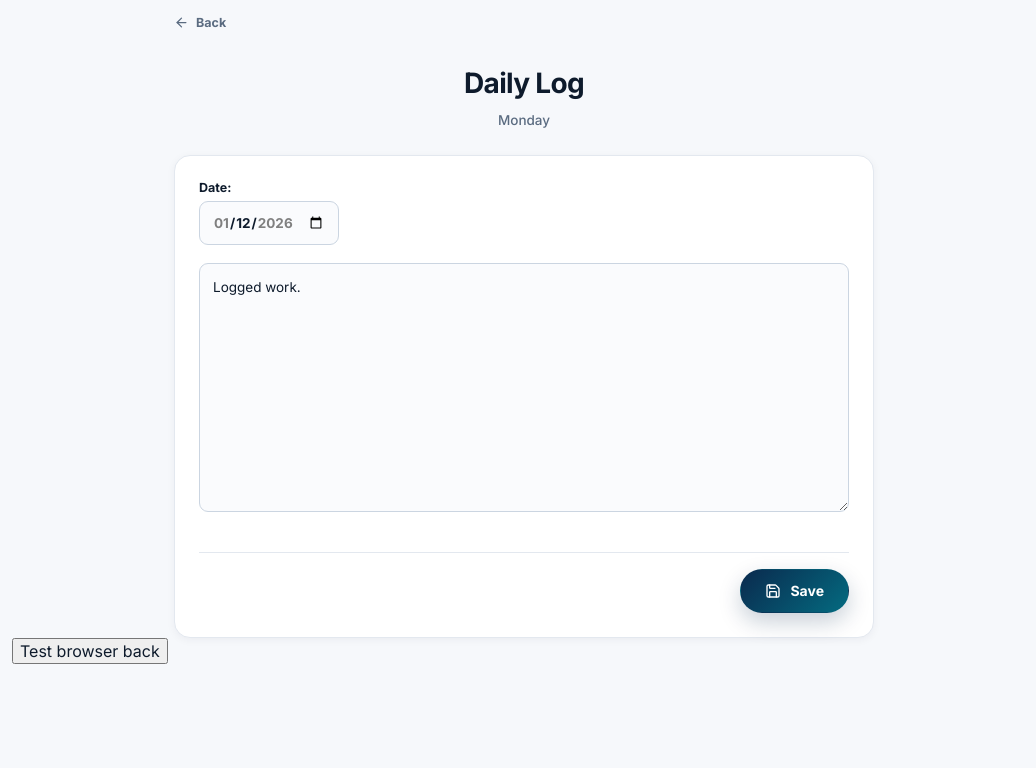
Test: DayPage › commits a valid typed date on Enter and navigates (req: Enter commits valid)
Check: the text box named "Daily log for 2026-01-12" is shown, box [199, 263, 849, 512]
Press 1 in the date field labelled "Date", box [199, 201, 338, 245]
Type "2026-01-13" into the date field labelled "Date".
click(269, 223); type("2026-01-13")  # box [199, 201, 338, 245]
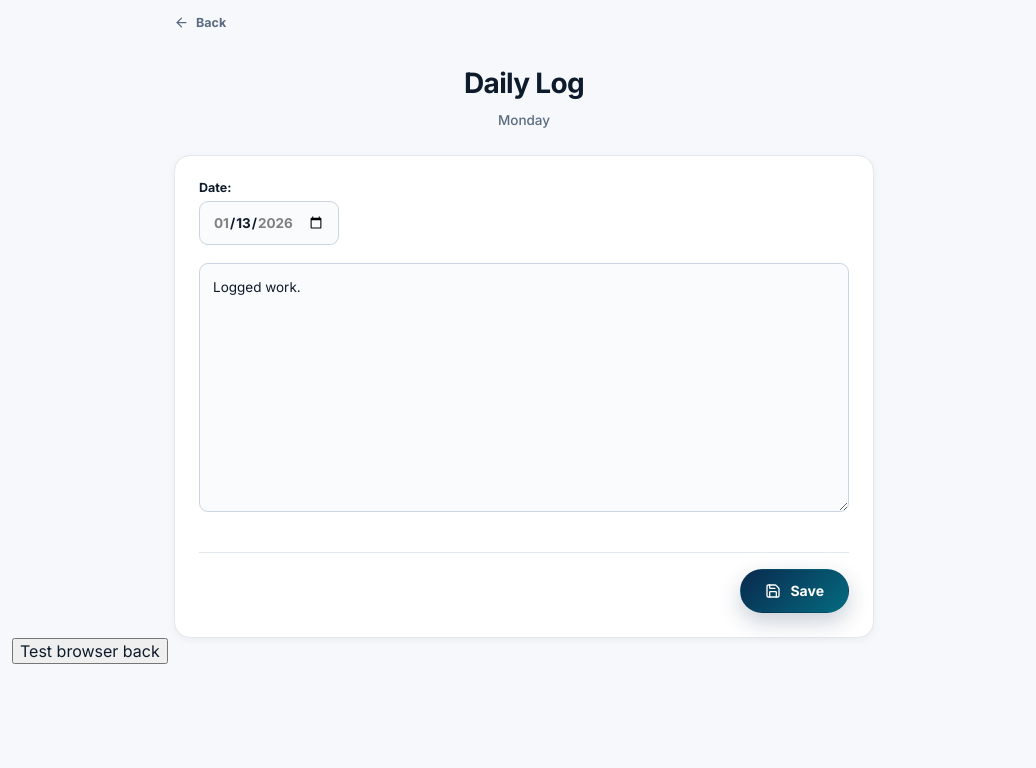
Press Enter in the date field labelled "Date", box [199, 201, 338, 245]
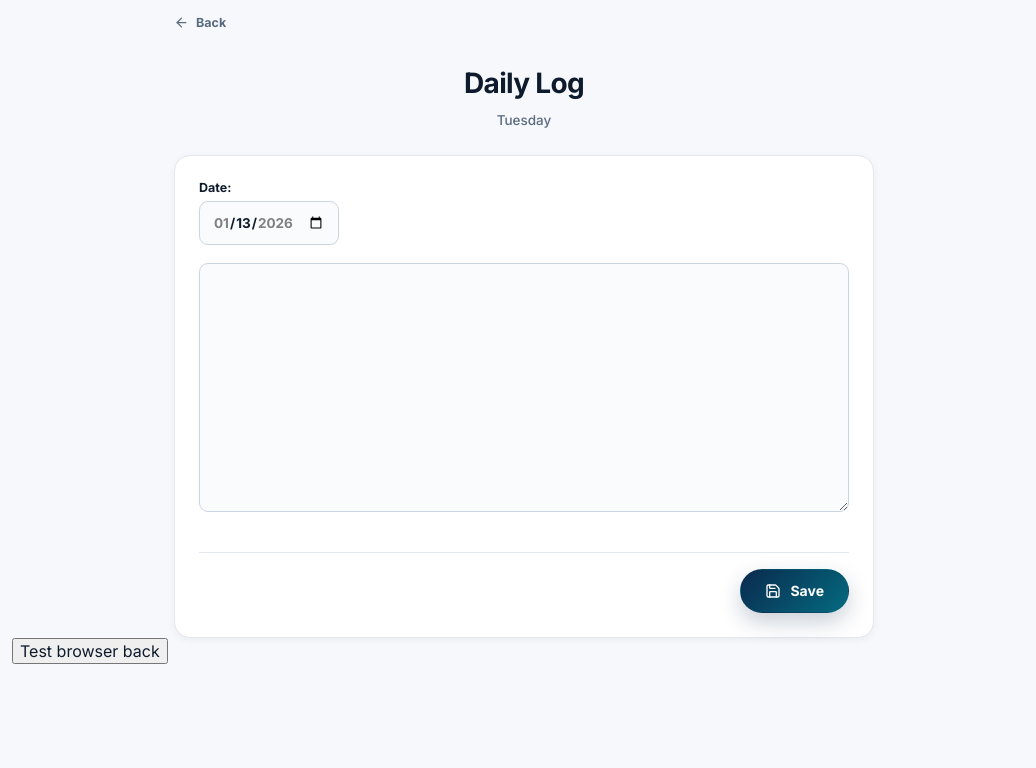
Check: the text box named "Daily log for 2026-01-13" is shown, box [199, 263, 849, 512]
